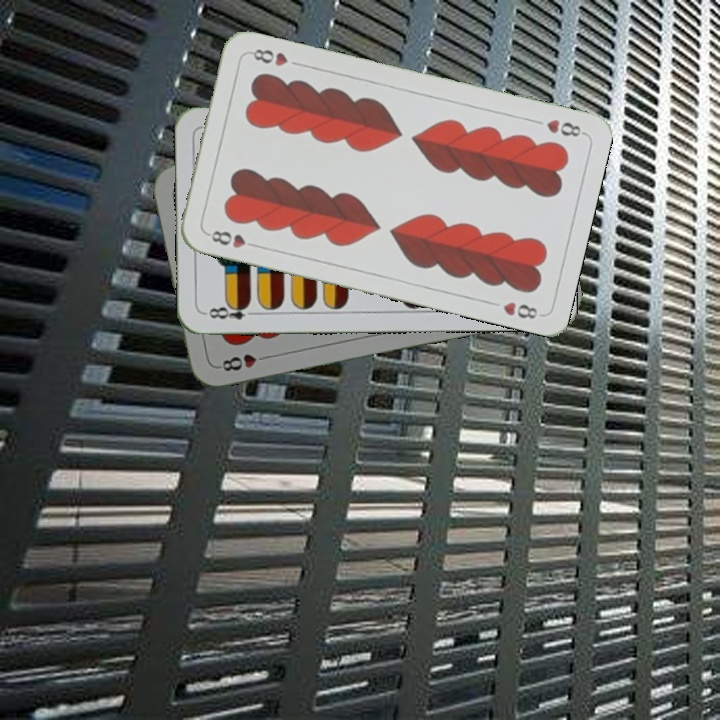E8: (201, 299, 260, 322)
H8: (203, 226, 261, 251), (214, 350, 272, 374), (542, 115, 587, 140)
